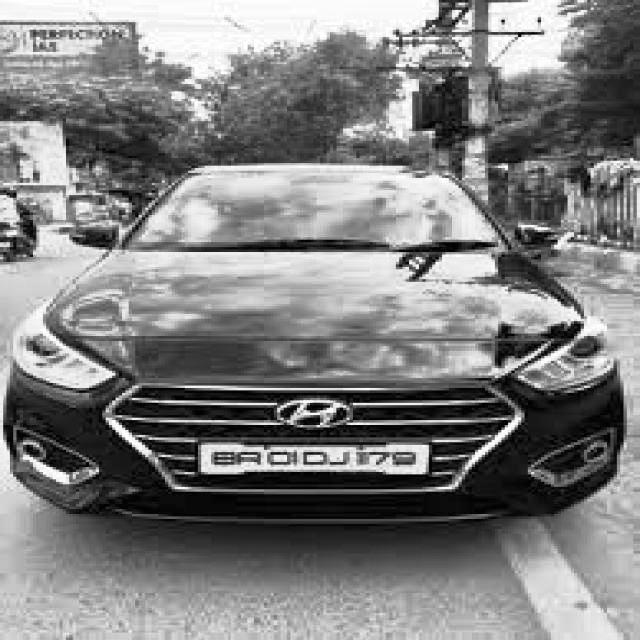Car: (10, 153, 640, 523)
